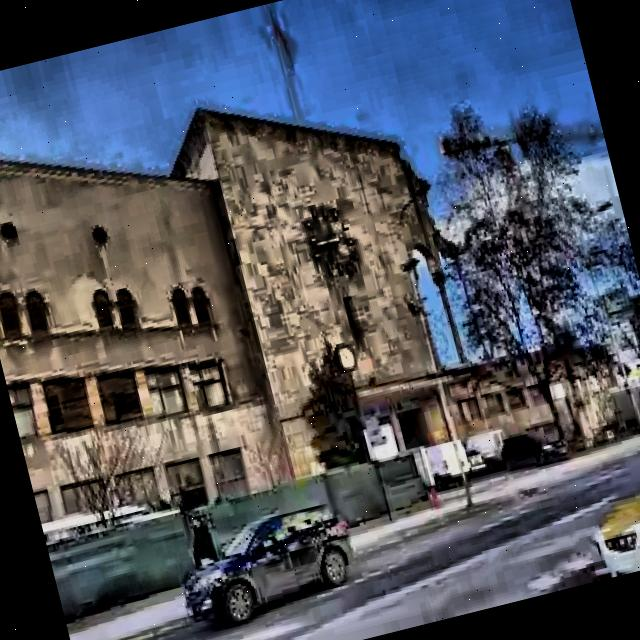old railway: (0, 57, 490, 569)
